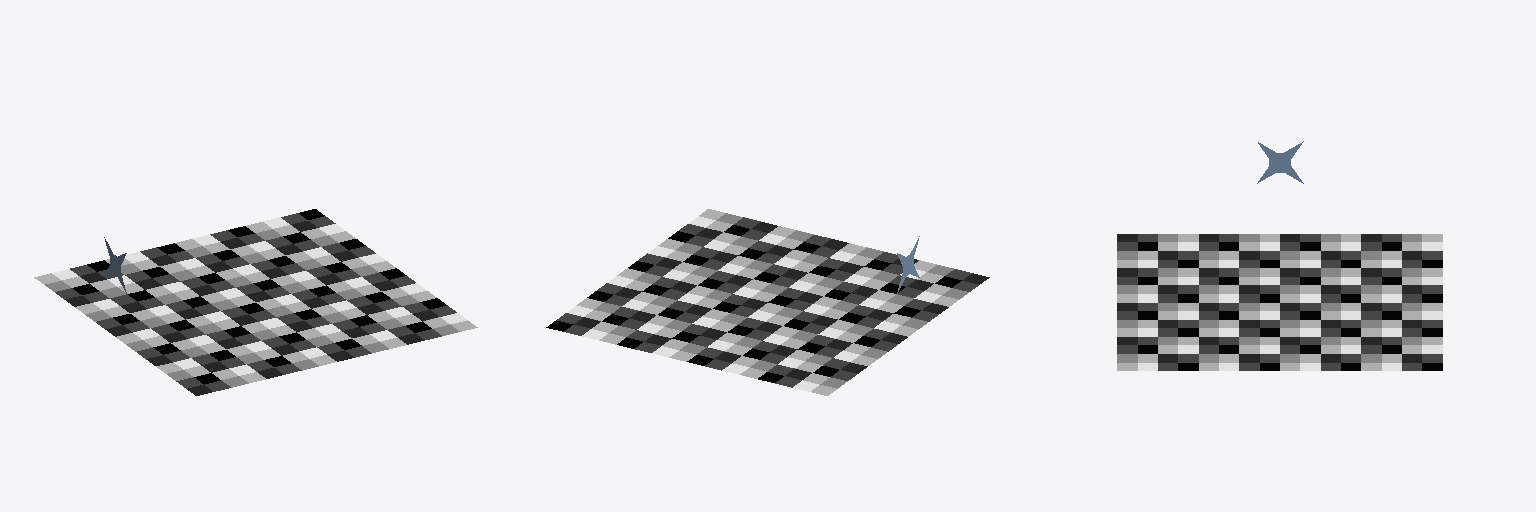
The picture shows the model from 3 angles: view 1: azimuth 30°, elevation 25°; view 2: azimuth 150°, elevation 25°; view 3: azimuth 270°, elevation 25°; orthographic projection.
Parts seen in each view (by area): view 1: Plane; view 2: Plane; view 3: Plane, Plane.001.
Boxes of the visible parts, x1,y1,x2,y2 form: Plane: [34, 209, 477, 395]; Plane: [546, 209, 989, 395]; Plane: [1117, 234, 1442, 370]; Plane.001: [1257, 141, 1303, 183].
Size of the model in its own units: 6 by 1.9 by 6.
Materials: 2 (1 with a texture image).